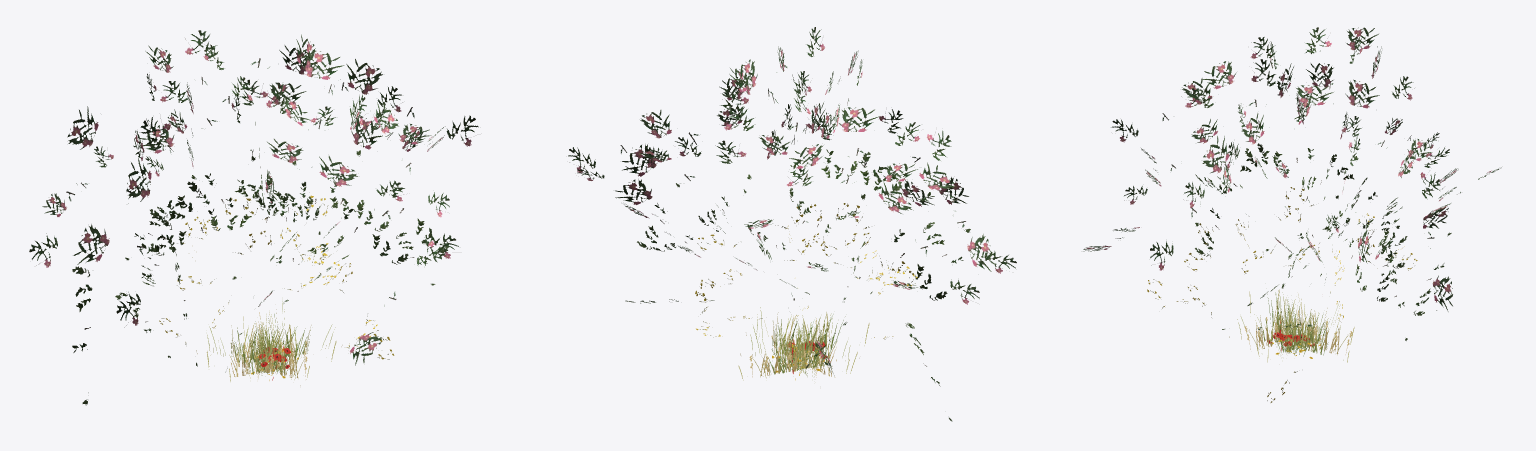
File: nature-plants-lite.glb
3 views of the same model, side by side, from view 1: azimuth 30°, elevation 25°; view 2: azimuth 150°, elevation 25°; view 3: azimuth 270°, elevation 25° (orthographic). The views are drawn at different scales.
Parts seen in each view (by area): view 1: bush_oleander_lite, bush_myrtle_lite, grass_tall, grass_dry, bush_broom_lite; view 2: bush_oleander_lite, bush_myrtle_lite, grass_tall, grass_dry, bush_broom_lite, grass_green; view 3: bush_oleander_lite, bush_myrtle_lite, grass_tall, grass_dry, bush_broom_lite, grass_green.
Boxes of the visible parts, x1,y1,x2,y2 form: bush_oleander_lite: (29,30,478,365); bush_myrtle_lite: (72,122,448,405); grass_tall: (196,301,342,385); grass_dry: (229,312,307,378); bush_broom_lite: (159,195,394,364); bush_oleander_lite: (568,27,1016,375); bush_myrtle_lite: (625,136,974,421); grass_tall: (740,307,869,378); grass_dry: (749,318,837,377); bush_broom_lite: (695,203,917,339); grass_green: (738,339,859,380); bush_oleander_lite: (1083,27,1501,311); bush_myrtle_lite: (1195,143,1451,350); grass_tall: (1229,288,1354,362); grass_dry: (1244,309,1352,354); bush_broom_lite: (1147,187,1417,402); grass_green: (1249,317,1349,362).
Bounding box in the file's own units: 3.57 × 2.69 × 3.09.
1 material, 1 textured.
